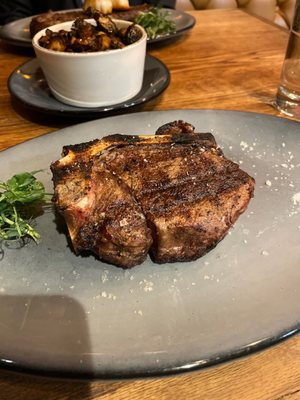pizza: (267, 0, 300, 122)
sushi: (31, 8, 148, 108)
